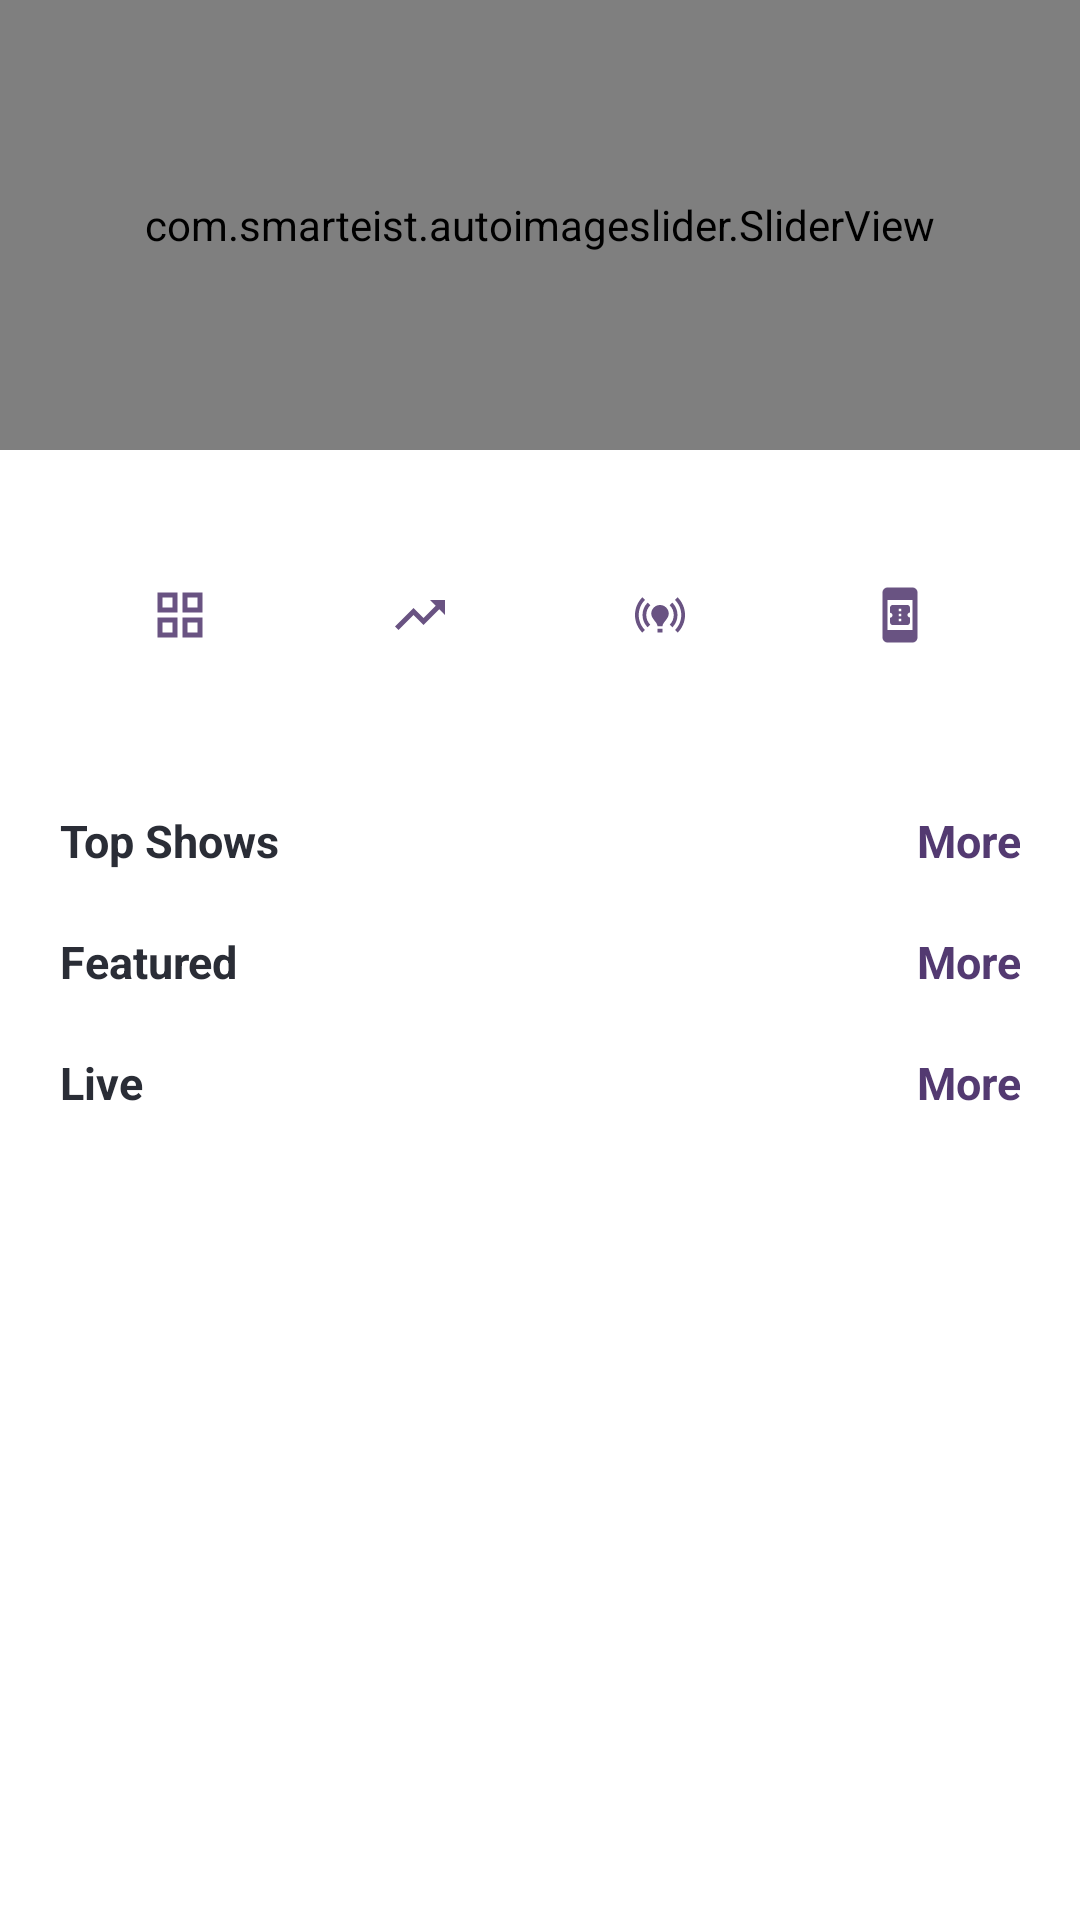

Locate icon controls on the screen. Image size 1080w x 1920h, boxes as bbox(x1, y1, x2, y2).
categories: bbox(157, 592, 203, 638)
live: bbox(635, 597, 685, 633)
trending: bbox(395, 600, 445, 630)
